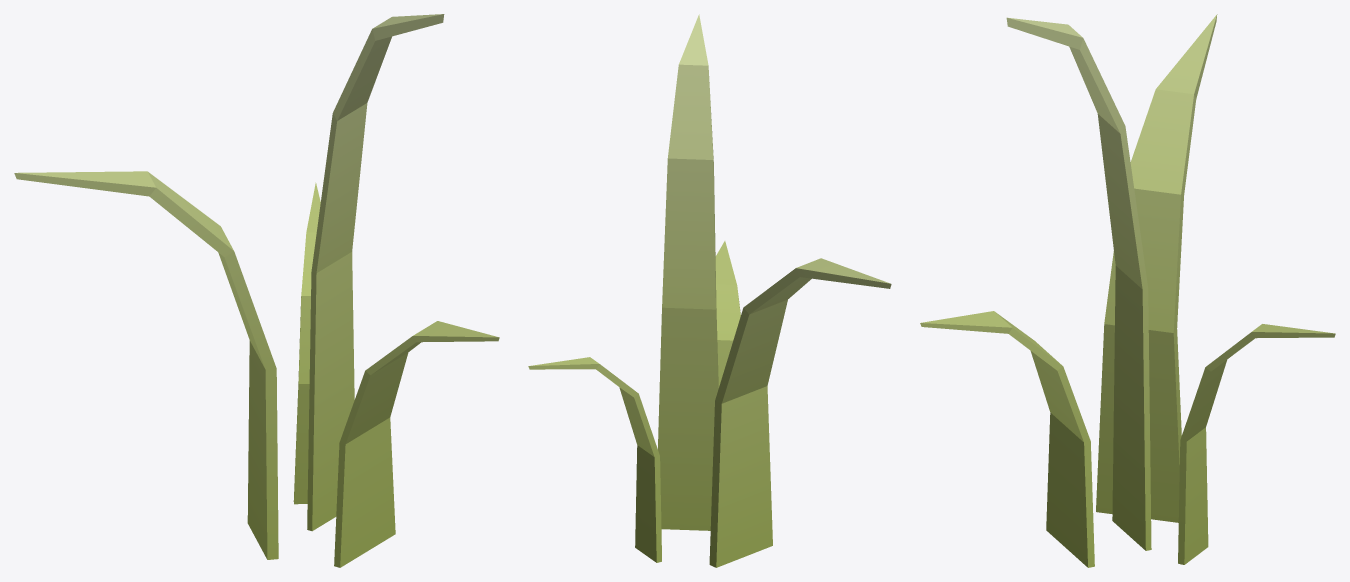
File: cutepack2023tallgrass 1.fbx
3 renders of one model, left to right at view 1: azimuth 30°, elevation 25°; view 2: azimuth 150°, elevation 25°; view 3: azimuth 270°, elevation 25°, orthographic. The views are drawn at different scales.
Visible parts, largest first — view 1: Plane.017; view 2: Plane.017; view 3: Plane.017.
Part boxes in pixels (x1=…): Plane.017: x1=14, y1=14, x2=499, y2=567; Plane.017: x1=528, y1=14, x2=891, y2=567; Plane.017: x1=920, y1=14, x2=1335, y2=567.
Bounding box in the file's own units: 67.43 × 97.94 × 66.58.
